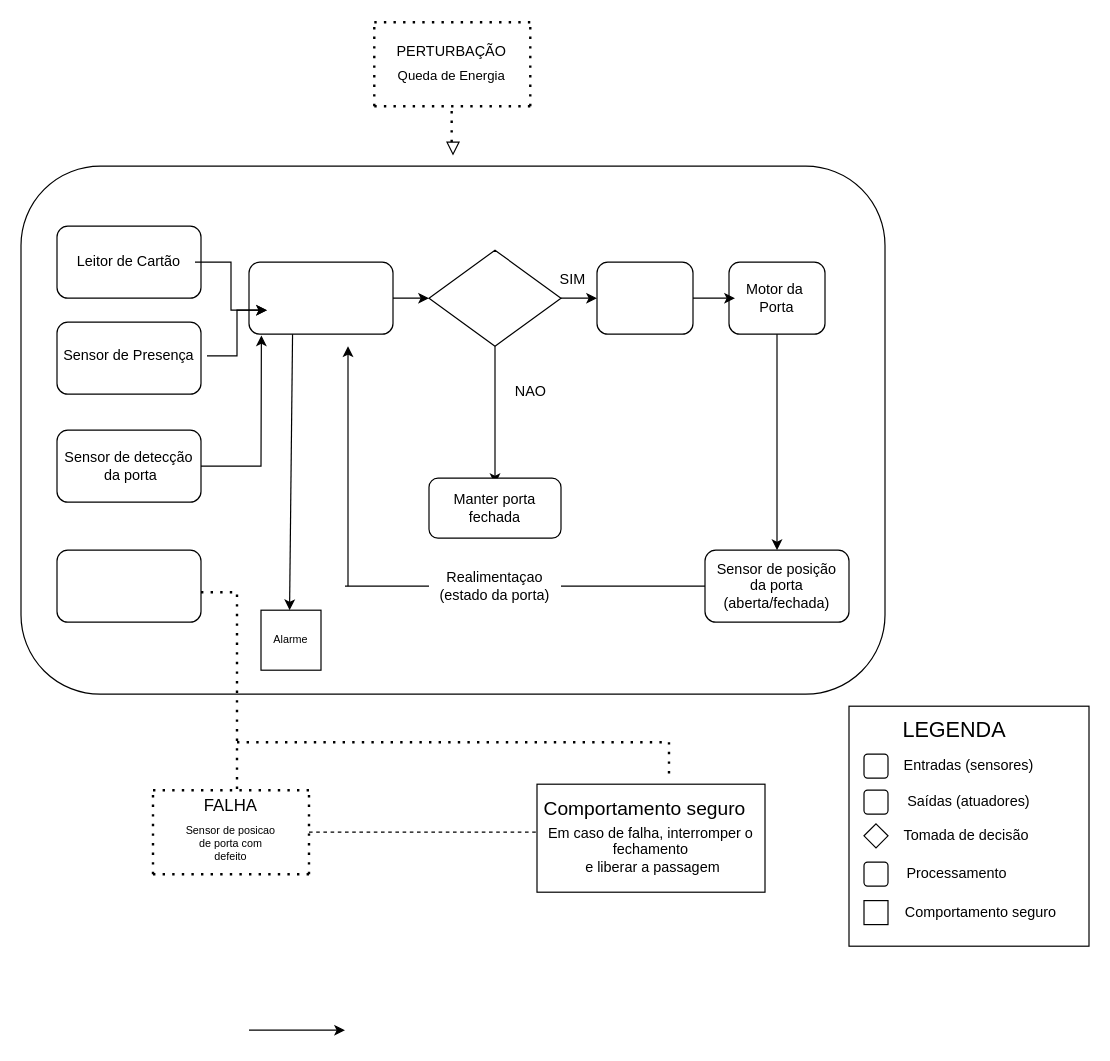
Some shapes in this 1110 by 1061 pixel diagram are drawn without their labels. Here are the shapes that lost their labels. From the top down, the centre of each, then its label:
At point 320,297: "Controlador da porta".
At point 494,297: "Acesso Autorizado?".
At point 644,297: "Abrir porta".
At point 128,585: "Botão de Emergência".
